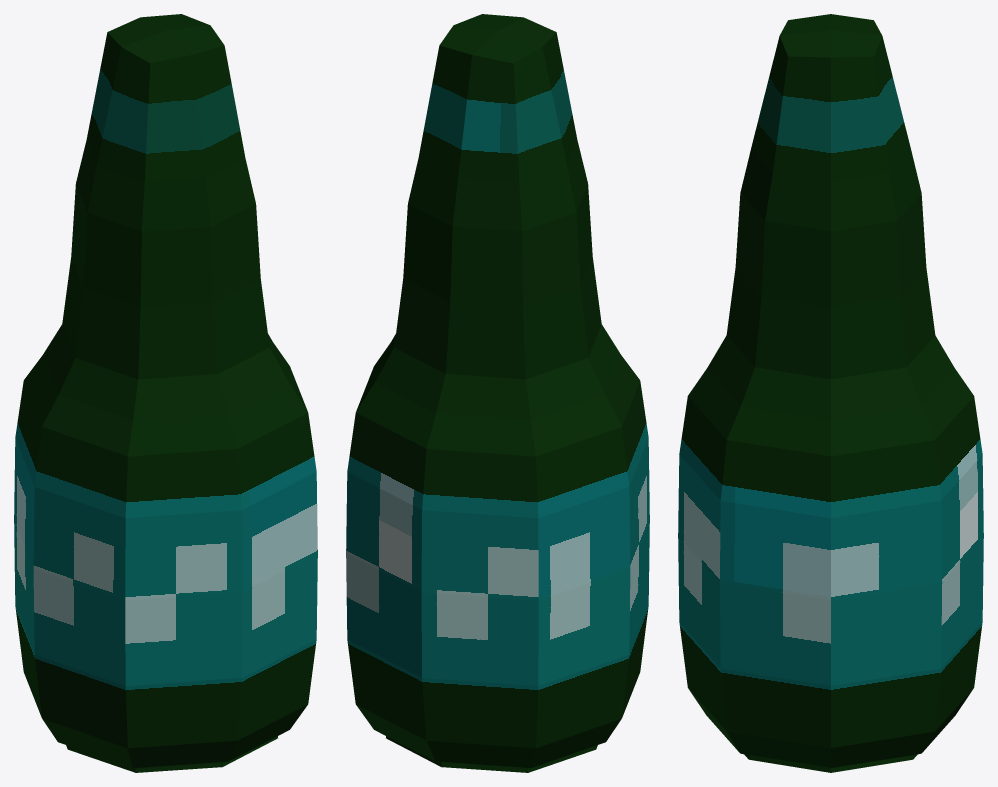
Rendered from mineral_water.fbx.
3 views of the same model, side by side, from view 1: azimuth 30°, elevation 25°; view 2: azimuth 150°, elevation 25°; view 3: azimuth 270°, elevation 25° (orthographic).
Parts seen in each view (by area): view 1: Cube; view 2: Cube; view 3: Cube.
Boxes of the visible parts, x1,y1,x2,y2 form: Cube: (14,14,317,772); Cube: (346,14,649,772); Cube: (678,14,983,772).
Bounding box in the file's own units: 37 × 93.49 × 37.
Materials: 1 (1 with a texture image).
